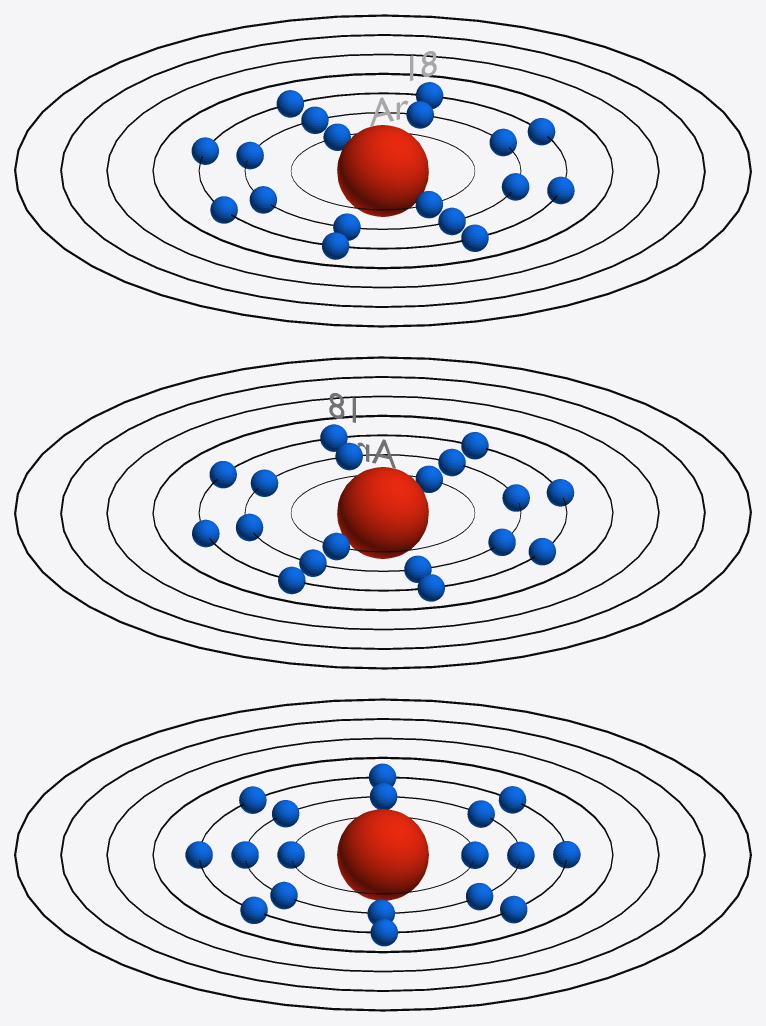
3 renders of one model, top to bottom at view 1: azimuth 30°, elevation 25°; view 2: azimuth 150°, elevation 25°; view 3: azimuth 270°, elevation 25°, orthographic.
Visible parts, largest first — view 1: Proton, Ar2, Ar3, n7, n6, n5, n4, n3, Ar1, n2; view 2: Proton, Ar2, Ar3, n7, n6, n5, n4, n3, Ar1, n2; view 3: Proton, Ar2, n7, Ar3, n6, n5, n4, n3, Ar1, n2, n1.
Boxes of the visible parts, box(x1,y1,x2,y2) form: Proton: box(337, 125, 428, 216); Ar2: box(236, 101, 529, 240); Ar3: box(191, 82, 574, 259); n7: box(14, 14, 751, 327); n6: box(60, 34, 705, 307); n5: box(106, 53, 659, 288); n4: box(152, 72, 613, 269); n3: box(198, 92, 567, 249); Ar1: box(323, 123, 442, 218); n2: box(244, 112, 521, 229); Proton: box(337, 467, 428, 558); Ar2: box(235, 442, 529, 582); Ar3: box(192, 424, 574, 601); n7: box(14, 356, 751, 669); n6: box(60, 376, 705, 649); n5: box(106, 395, 659, 630); n4: box(152, 414, 613, 611); n3: box(198, 434, 567, 591); Ar1: box(322, 465, 442, 560); n2: box(244, 454, 521, 571); Proton: box(337, 809, 428, 900); Ar2: box(231, 783, 534, 924); n7: box(14, 698, 751, 1011); Ar3: box(185, 763, 580, 946); n6: box(60, 718, 705, 991); n5: box(106, 737, 659, 972); n4: box(152, 756, 613, 953); n3: box(199, 776, 566, 933); Ar1: box(277, 841, 488, 868); n2: box(245, 796, 520, 913); n1: box(292, 817, 473, 894).
Size of the model in its own units: 802 by 180 by 802.
